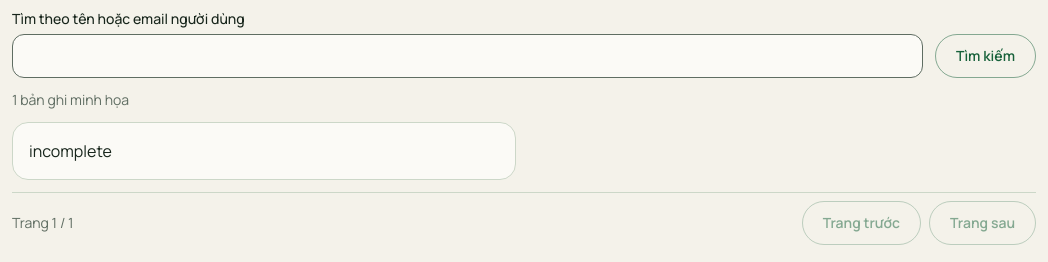
Scenario: Admin record list › handles incomplete records without crashing search
Check: the text "incomplete" is shown, box [29,140,112,162]
Type "abc" into the field at (468, 56), box [12,34,923,78]
Then press Enter
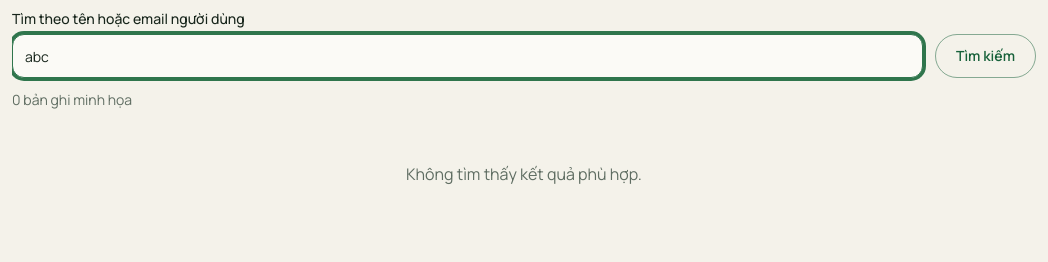
Check: the message reads "Không tìm thấy kết quả phù hợp.", box [406,163,642,185]
